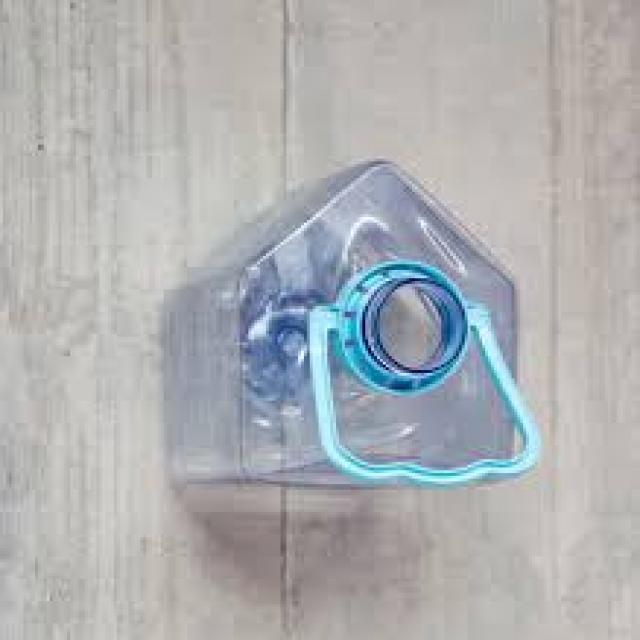Plastic: (160, 153, 536, 500)
